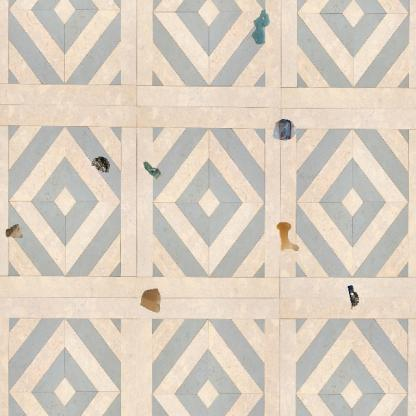dirty: (270, 117, 300, 142), (139, 286, 163, 315), (89, 155, 112, 175), (141, 160, 162, 180), (345, 284, 361, 310), (4, 222, 26, 240)
liquid: (250, 9, 272, 46), (275, 221, 300, 253)
